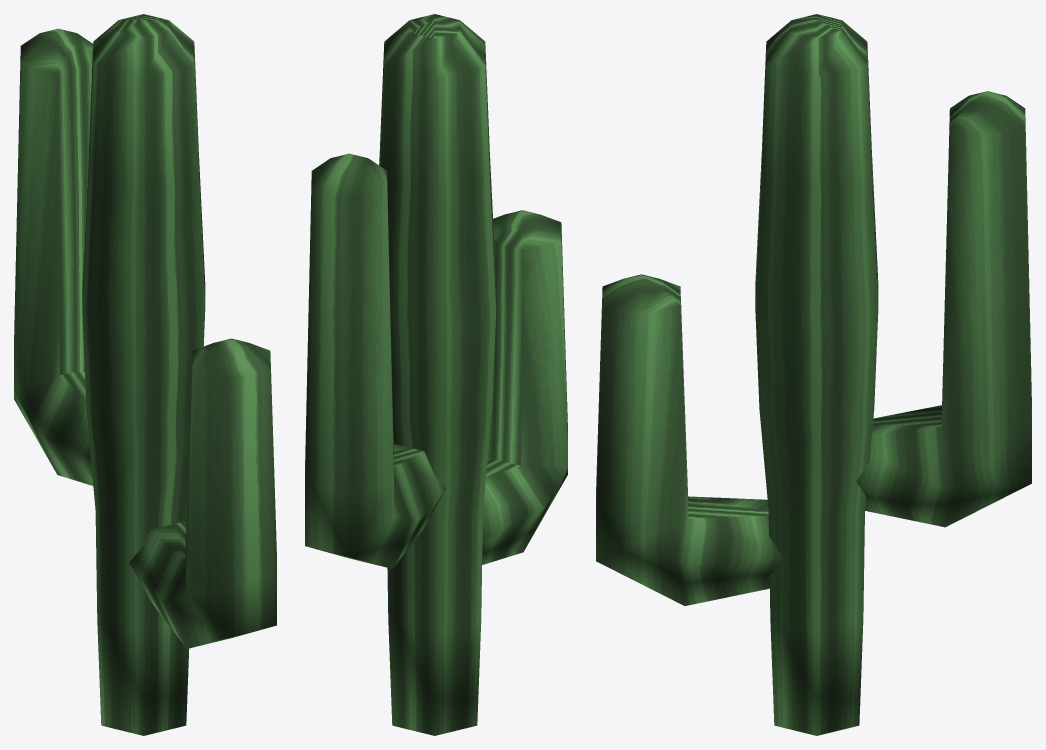
Rendered from Cactus_4.FBX.
The picture shows the model from 3 angles, left to right: view 1: azimuth 30°, elevation 25°; view 2: azimuth 150°, elevation 25°; view 3: azimuth 270°, elevation 25°; orthographic projection.
Visible parts, largest first — view 1: Cactus_4; view 2: Cactus_4; view 3: Cactus_4.
Boxes of the visible parts, box(x1,y1,x2,y2) form: Cactus_4: box(14, 14, 276, 735); Cactus_4: box(305, 14, 567, 735); Cactus_4: box(596, 14, 1031, 735).
Size of the model in its own units: 2.32 by 7.14 by 12.57.
